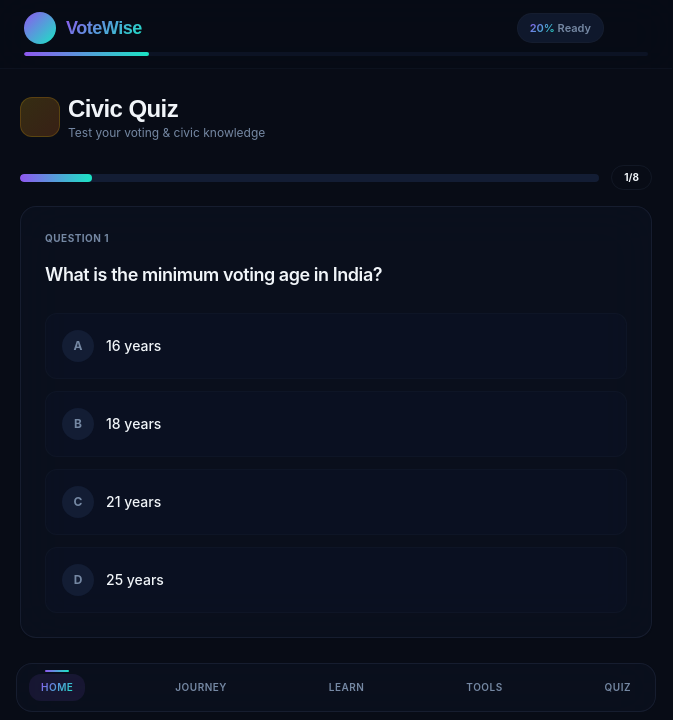
QuizPage › should advance to next question
The width and height of the screenshot is (673, 720).
What coordinates should you click on to do the following:
click the text "18 years"
I would click on:
 (134, 424)
Its box is [106,414,161,434].
(page scrolled)
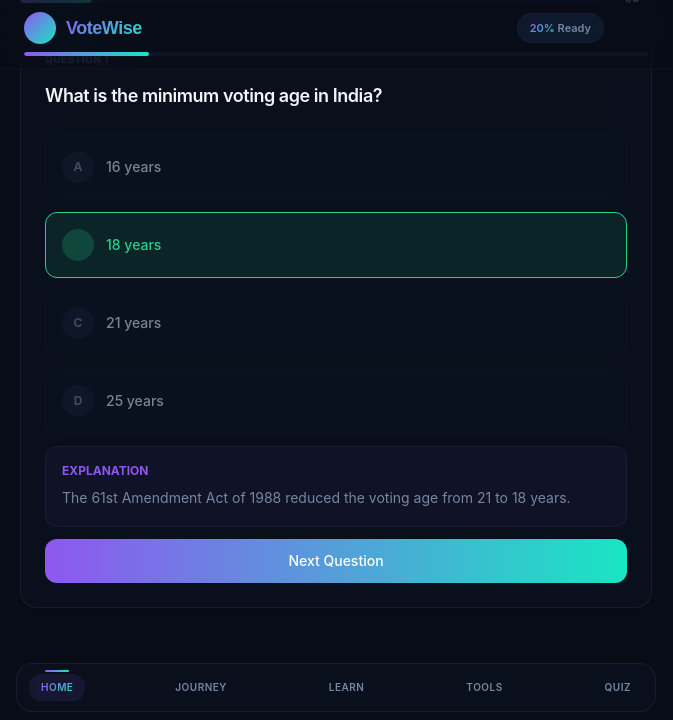
What coordinates should you click on to do the following:
click the button "Next Question"
I would click on:
 (336, 561)
Its box is [45,539,627,583].
(page scrolled)
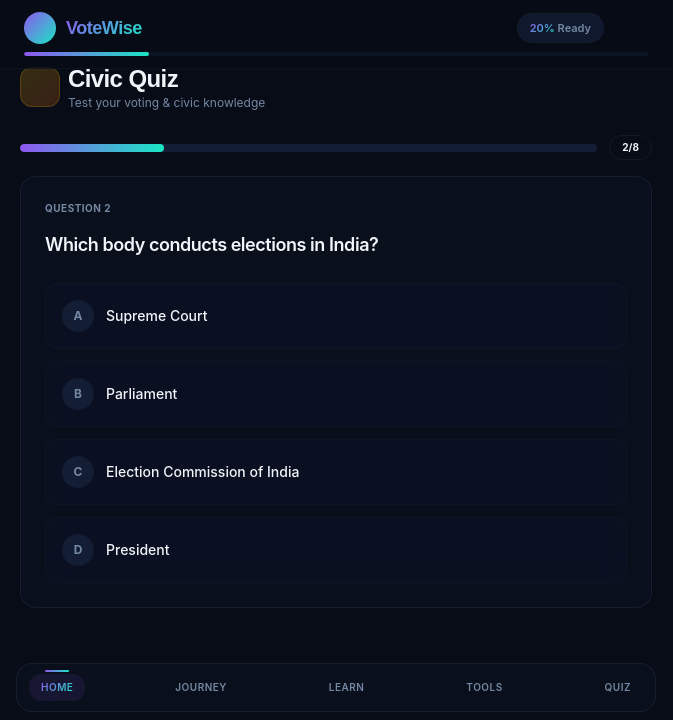
Expected: the text "2/8" is shown, [609,135,652,160]
